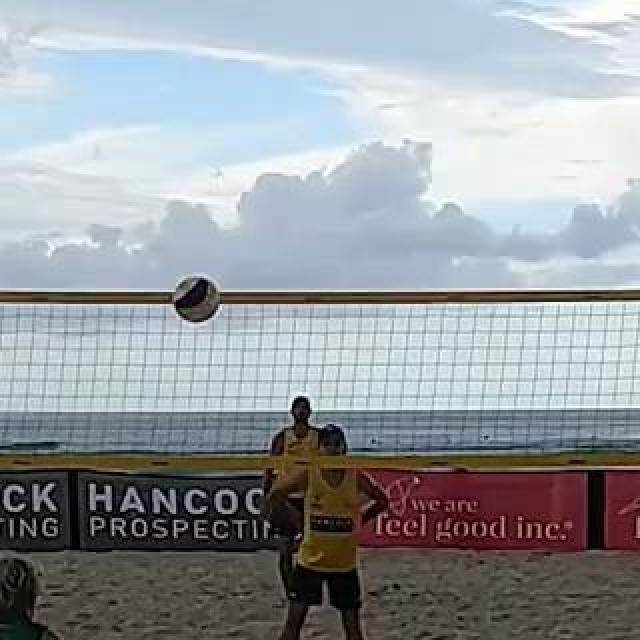volleyball: (174, 277, 220, 325)
